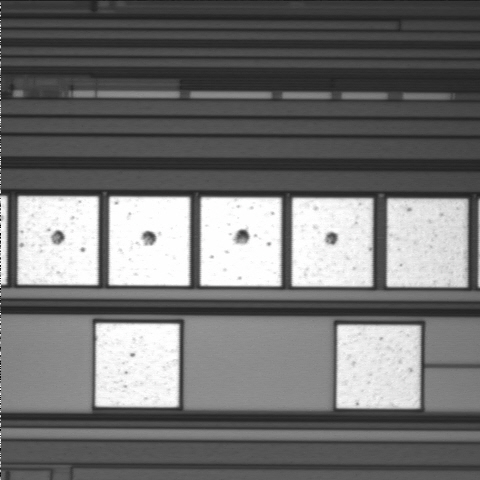pad: (200, 197, 282, 286), (18, 196, 99, 285), (109, 197, 190, 286), (292, 198, 373, 287), (387, 199, 468, 287), (95, 323, 179, 407), (337, 325, 420, 409)
